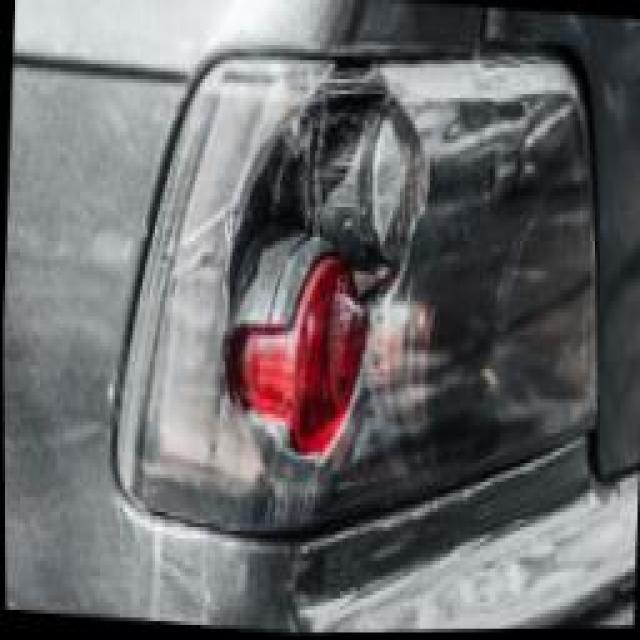Light: (145, 19, 594, 550)
